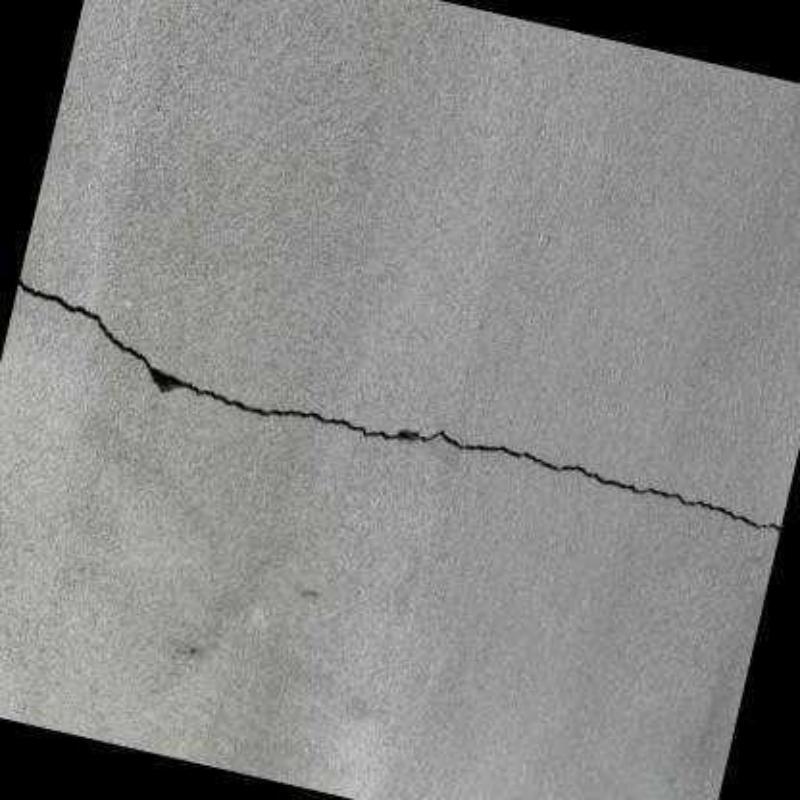crack: (15, 274, 782, 535)
